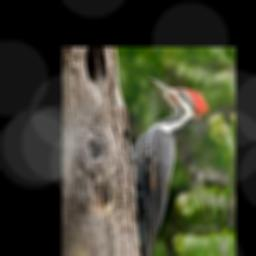Woodpecker: (129, 77, 209, 256)
